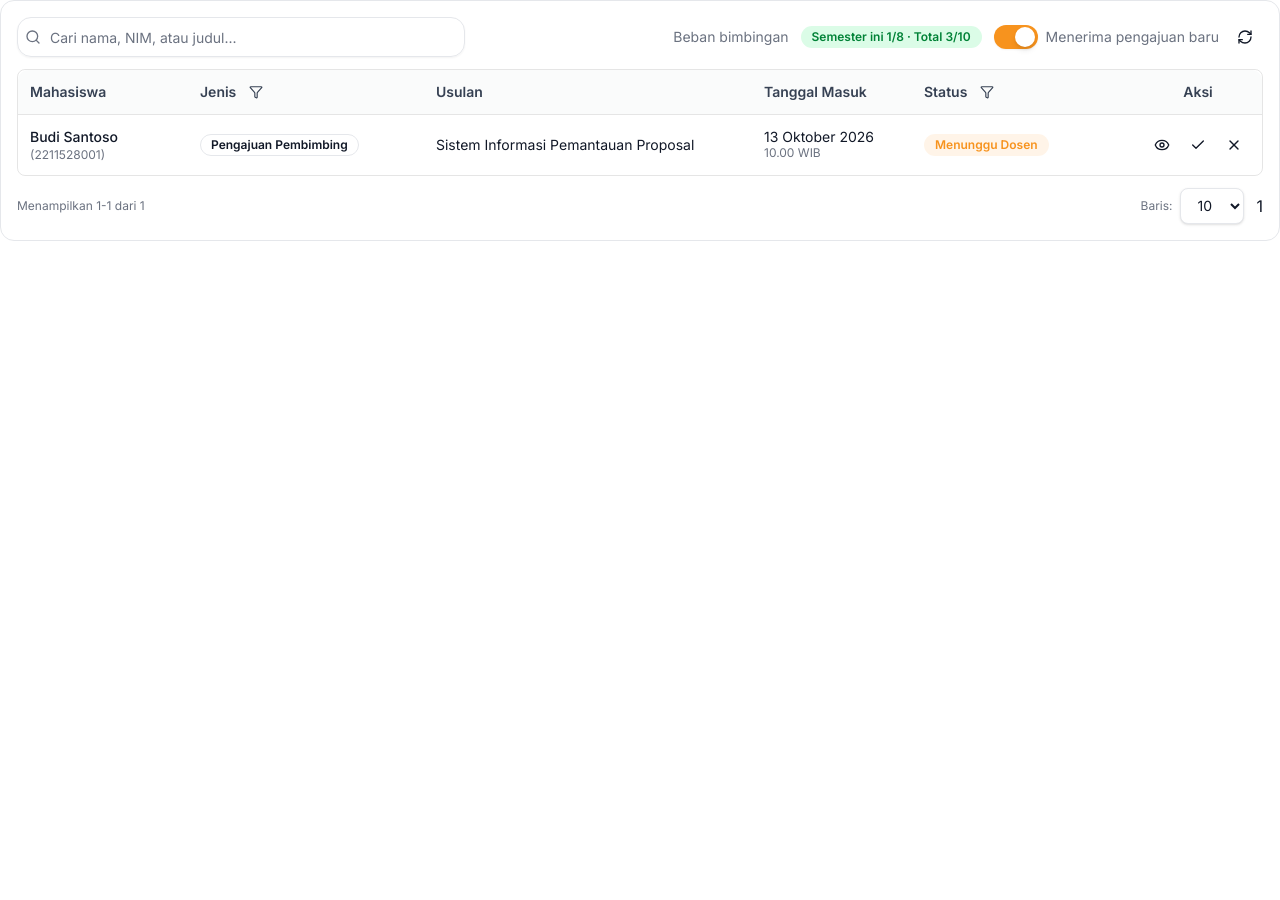
Test: Tugas Akhir > Permohonan (the lecturer approval inbox) › opens the supervisor request detail with the old card content
Click the button named "Lihat Detail" at point(1162, 144), box [1146,128,1178,160]
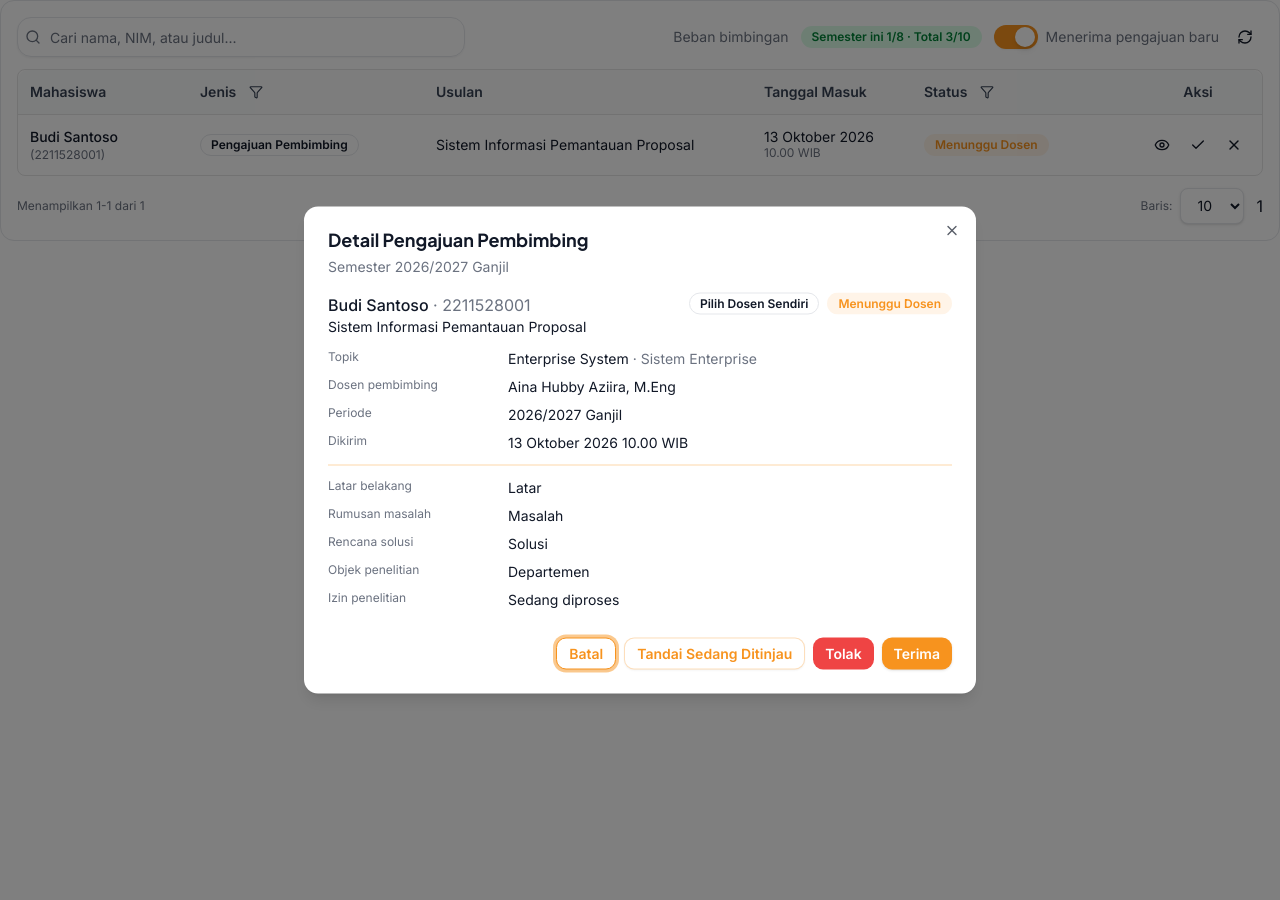
Expected: the heading "Detail Pengajuan Pembimbing" is shown, [328,228,588,250]
Expected: the text "Rumusan masalah" is shown, [328,506,431,520]
